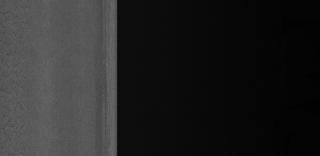silk spot: (4, 9, 36, 138)
